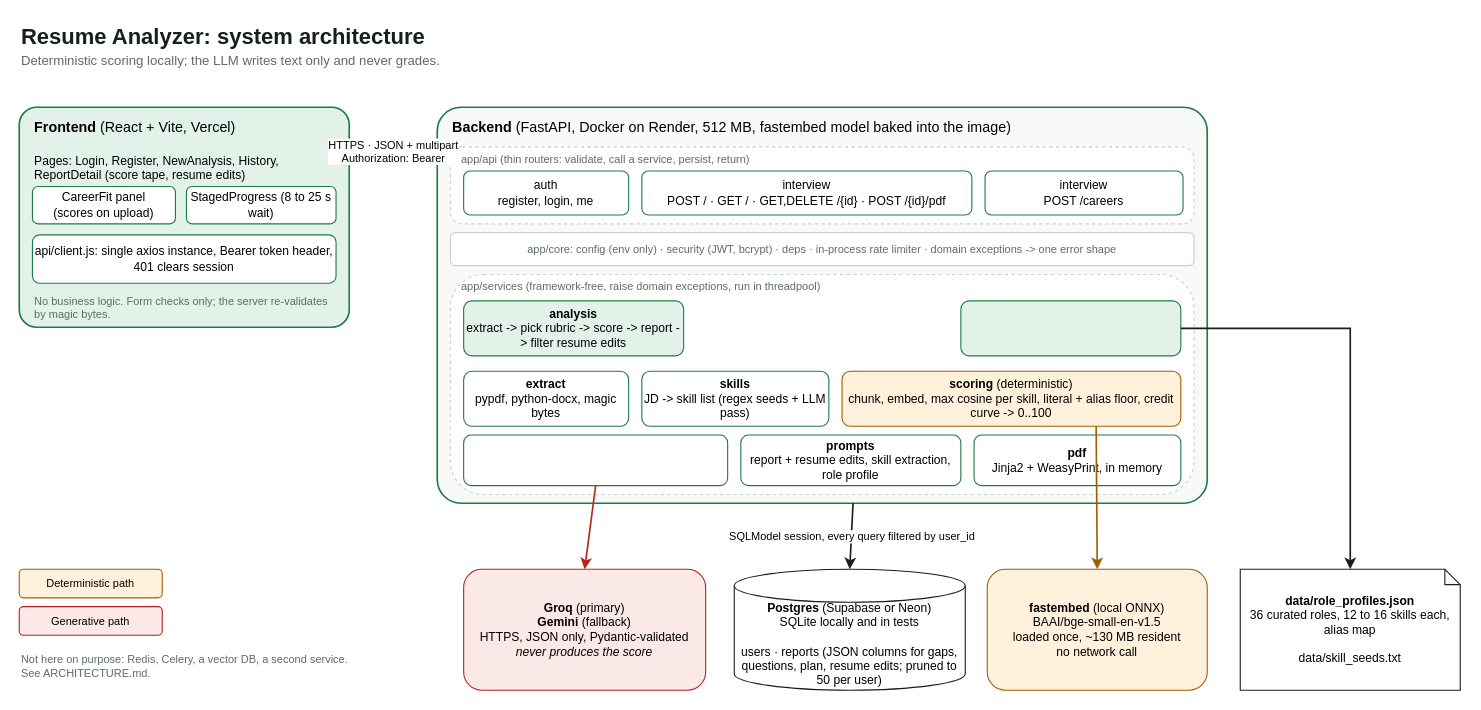
Image size: 1481x710. Some labels were removed from this diagram. The shapes that lost their labels are listed below. From the top down, each one's centre as x and y in pixels, then its label:
At pixel 1070 328: "careers rank resume vs every profile".
At pixel 595 460: "llm Groq -> validate JSON -> retry once -> Gemini fallback".
